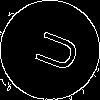U: (25, 25, 81, 75)
